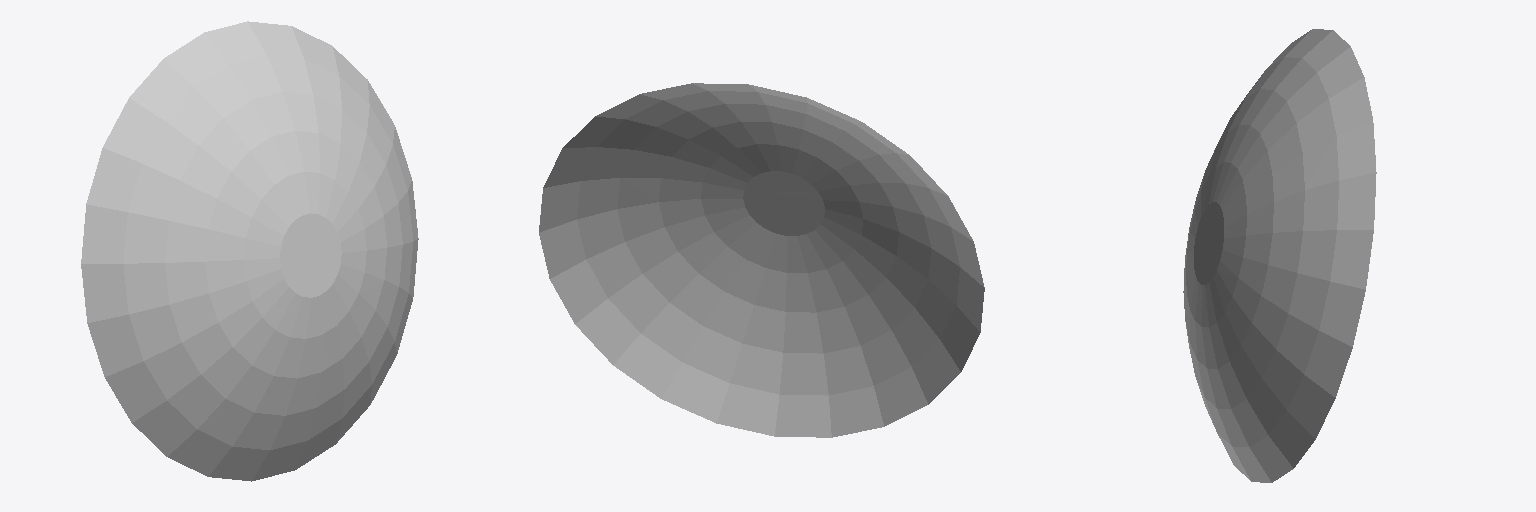
The model's file is original-31.obj.
3 renders of one model, left to right at view 1: azimuth 30°, elevation 25°; view 2: azimuth 150°, elevation 25°; view 3: azimuth 270°, elevation 25°, orthographic.
Parts seen in each view (by area): view 1: #ID153; view 2: #ID153; view 3: #ID153.
Boxes of the visible parts, x1,y1,x2,y2 form: #ID153: [81, 21, 418, 481]; #ID153: [539, 83, 984, 437]; #ID153: [1183, 29, 1376, 482].
Bounding box in the file's own units: 0.0254 × 0.0253 × 0.011.